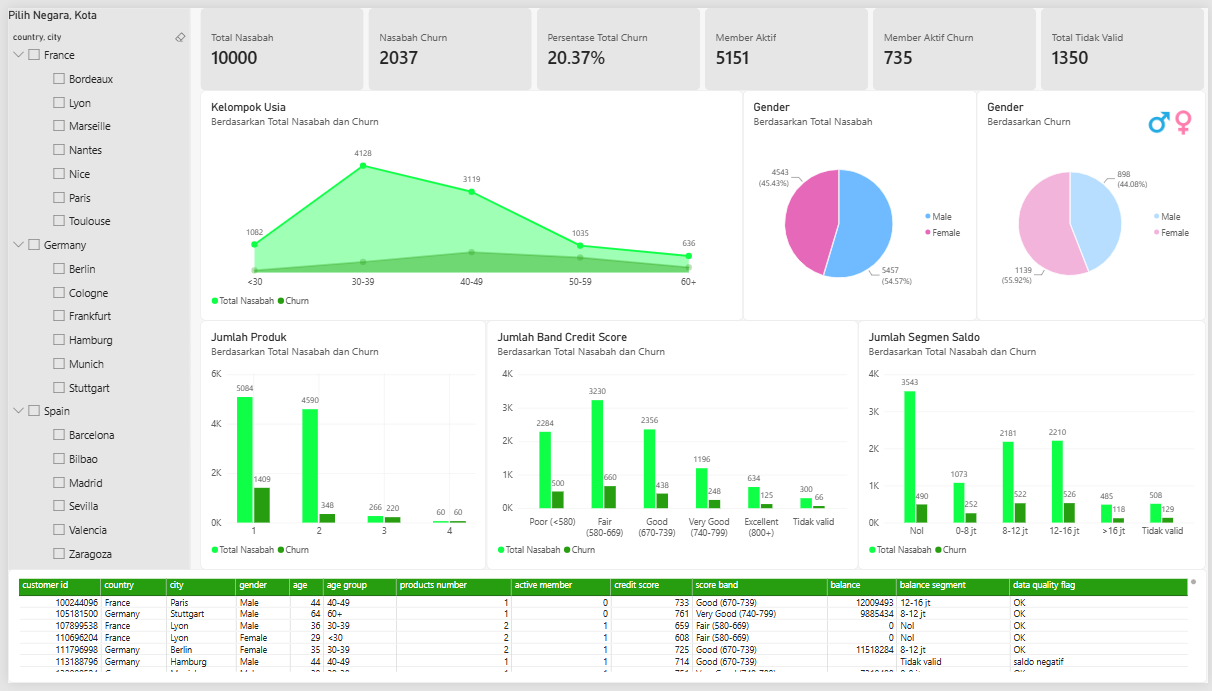

The page's visual inventory and layout, read from the dashboard file:
{"tool":"powerbi","page":{"name":"Dashboard","canvas":[1920,1080],"ordinal":0},"visuals":[{"type":"cardVisual","fields":{"Data":["Count(Data_Bersih.customer_id)","Sum(Data_Bersih.churn)","Data_Bersih.Churn Rate","Sum(Data_Bersih.active_member)","Data_Bersih.Member Aktif Churn","Data_Bersih.Total Tidak Valid"]},"box":[308.7,0,1611.6,132.6],"z":0},{"type":"pieChart","title":"Gender","fields":{"Category":["Data_Bersih.gender"],"Y":["Count(Data_Bersih.customer_id)"]},"box":[1176,132,374,368],"z":1000},{"type":"slicer","title":"Pilih Negara, Kota","fields":{"Values":["Data_Bersih.country","Data_Bersih.city"]},"box":[0,0,292,898],"z":2000},{"type":"areaChart","title":"Kelompok Usia","fields":{"Category":["Data_Bersih.age_group"],"Y":["Count(Data_Bersih.customer_id)","Sum(Data_Bersih.churn)"]},"box":[308,132,868,368],"z":3000},{"type":"clusteredColumnChart","title":"Jumlah Produk","fields":{"Category":["Data_Bersih.products_number"],"Y":["Count(Data_Bersih.customer_id)","Sum(Data_Bersih.churn)"]},"box":[308.6,500,457.1,398.6],"z":4000},{"type":"clusteredColumnChart","title":"Jumlah Band Credit Score","fields":{"Category":["Data_Bersih.score_band"],"Y":["Count(Data_Bersih.customer_id)","Sum(Data_Bersih.churn)"]},"box":[765.7,500,594.3,398.6],"z":5000},{"type":"clusteredColumnChart","title":"Jumlah Segmen Saldo","fields":{"Category":["Data_Bersih.balance_segment"],"Y":["Count(Data_Bersih.customer_id)","Sum(Data_Bersih.churn)"]},"box":[1360,500,555.7,398.6],"z":6000},{"type":"tableEx","fields":{"Values":["Data_Bersih.customer_id","Data_Bersih.country","Data_Bersih.city","Data_Bersih.gender","Sum(Data_Bersih.age)","Data_Bersih.age_group","Sum(Data_Bersih.products_number)","Sum(Data_Bersih.active_member)","Sum(Data_Bersih.credit_score)","Data_Bersih.score_band","Sum(Data_Bersih.balance)","Data_Bersih.balance_segment"]},"box":[0,898.6,1918.6,181.4],"z":7000},{"type":"pieChart","title":"Gender","fields":{"Category":["Data_Bersih.gender"],"Y":["Sum(Data_Bersih.churn)"]},"box":[1550,132,366,368],"z":8000},{"type":"image","box":[1802,132,114,102],"z":8001}]}

Visuals, with their boxes in screenshot pixels (x1, y1, x2, y2), scaled from the page's 1920x1080 canvas onto the 1212x691 screenshot:
cardVisual - Count(Data_Bersih.customer_id) x Sum(Data_Bersih.churn): l=195, t=0, r=1211, b=85
"Gender" pieChart: l=742, t=84, r=978, b=320
"Pilih Negara, Kota" slicer: l=0, t=0, r=184, b=575
"Kelompok Usia" areaChart: l=194, t=84, r=742, b=320
"Jumlah Produk" clusteredColumnChart: l=195, t=320, r=483, b=575
"Jumlah Band Credit Score" clusteredColumnChart: l=483, t=320, r=858, b=575
"Jumlah Segmen Saldo" clusteredColumnChart: l=858, t=320, r=1209, b=575
tableEx - Data_Bersih.customer_id x Data_Bersih.country: l=0, t=575, r=1211, b=690
"Gender" pieChart: l=978, t=84, r=1209, b=320
image: l=1138, t=84, r=1209, b=150
